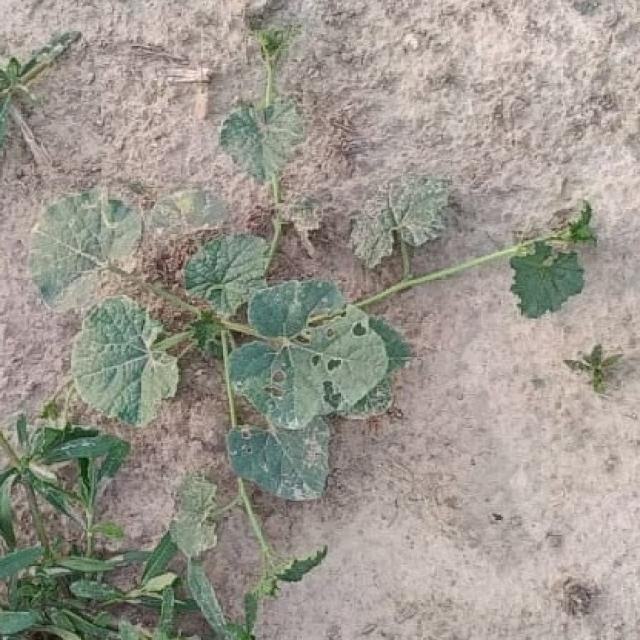plant: (71, 30, 597, 501), (29, 190, 143, 304)
